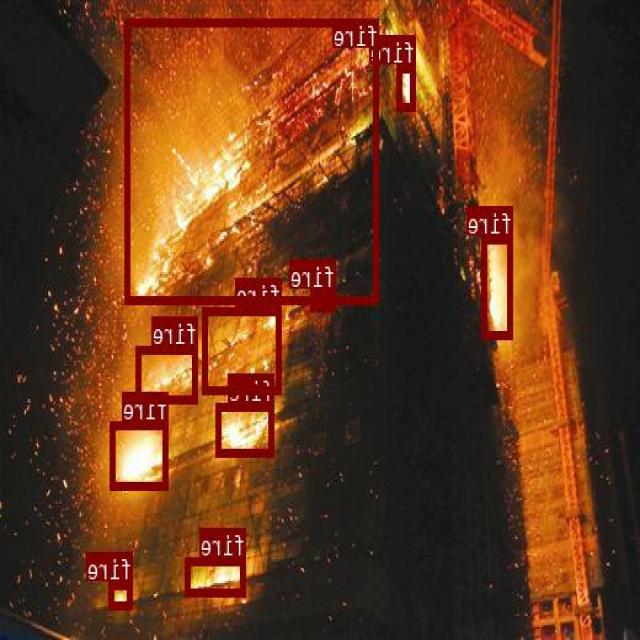fire: (126, 18, 380, 302), (204, 307, 282, 393), (111, 419, 169, 488), (137, 346, 199, 401), (483, 235, 514, 338), (217, 401, 275, 455), (186, 556, 247, 594), (398, 64, 417, 110), (110, 581, 134, 608), (312, 287, 336, 310)
